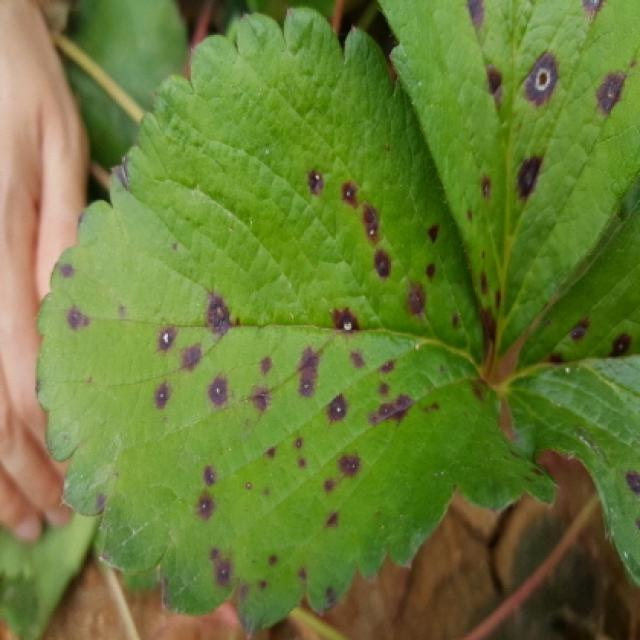Leaf Spot: (35, 4, 556, 638), (376, 0, 638, 366), (498, 180, 638, 593)
